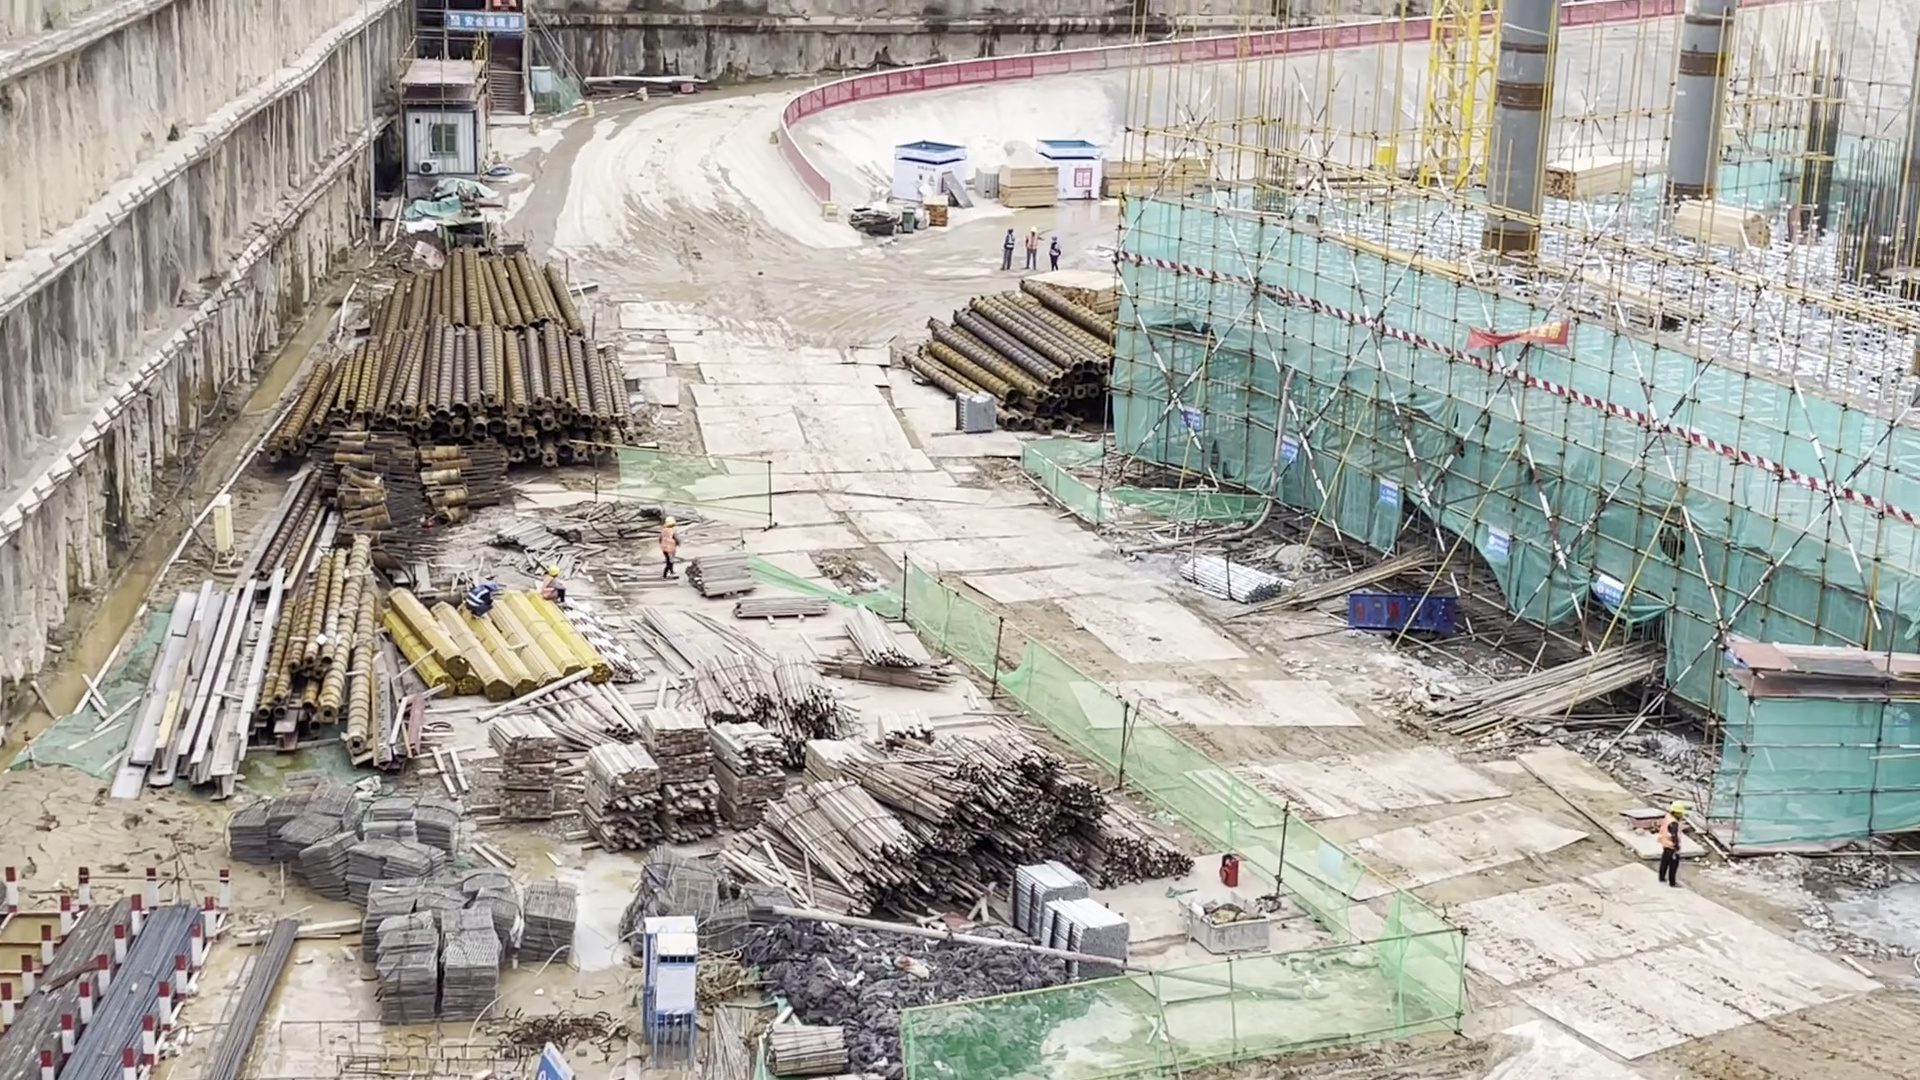brick: (1002, 860, 1137, 981)
helmet: (661, 515, 678, 529), (1668, 800, 1684, 812), (485, 581, 500, 589), (548, 566, 561, 575), (1049, 237, 1061, 242), (1006, 225, 1014, 231), (1032, 225, 1038, 233)
hopper: (1181, 894, 1269, 955), (1349, 591, 1459, 637)
person: (650, 510, 692, 581), (1655, 796, 1688, 886), (531, 561, 575, 608), (463, 567, 499, 621), (1042, 232, 1074, 275), (996, 222, 1016, 275), (1023, 221, 1043, 267)
rebar: (31, 889, 180, 1080), (206, 916, 309, 1080)
slogan: (463, 11, 527, 35)
vest: (1657, 815, 1683, 851), (657, 526, 680, 553), (466, 588, 494, 609), (540, 576, 557, 598), (1004, 233, 1016, 252), (1027, 234, 1038, 251), (1051, 244, 1060, 259)
wood: (742, 717, 1199, 879), (470, 652, 827, 840)
